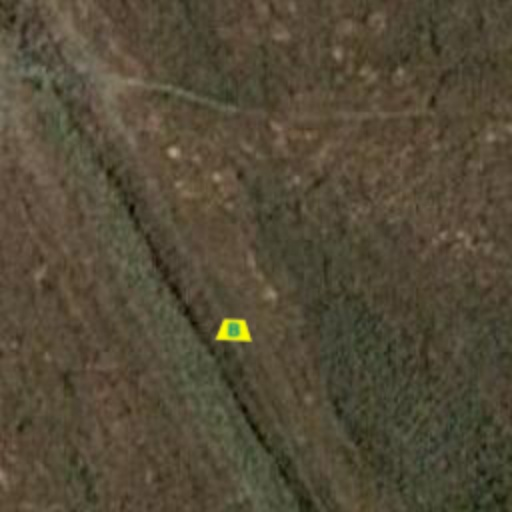trapezoid: (214, 310, 254, 350)
